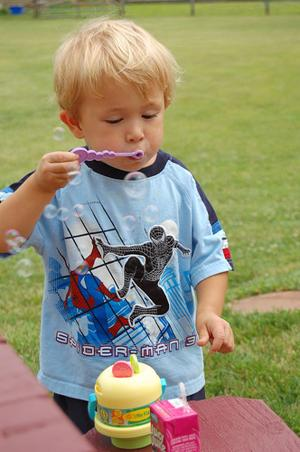person: (4, 21, 238, 436)
